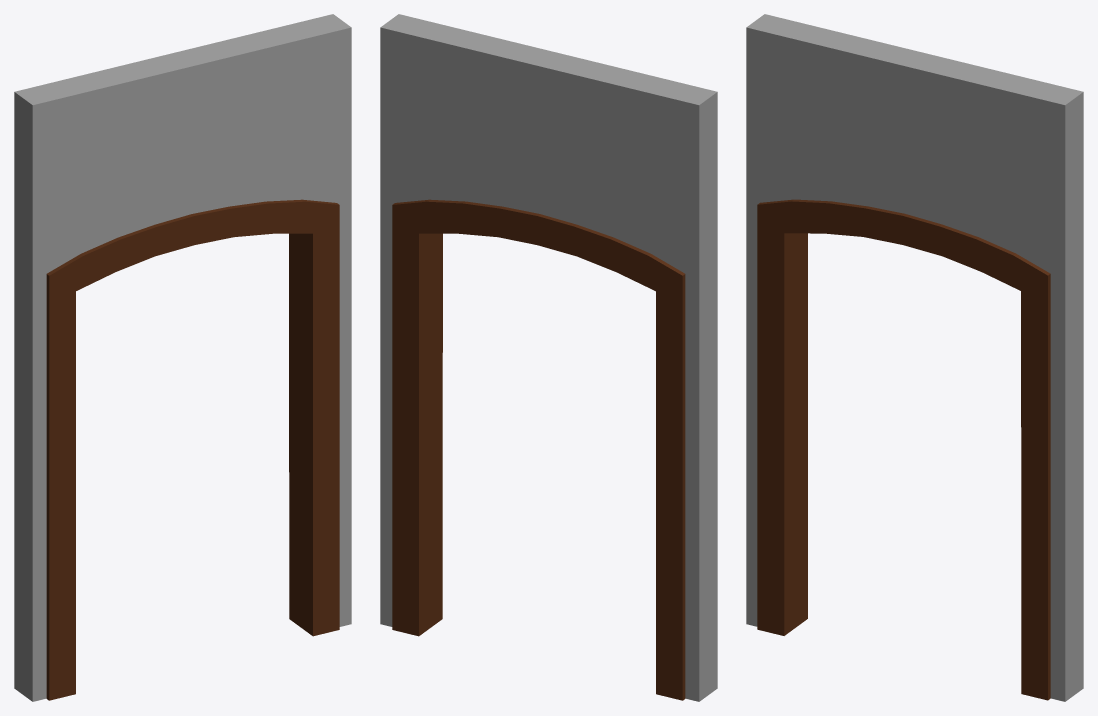
The model's file is wallDoorFrame.fbx.
The picture shows the model from 3 angles, left to right: view 1: azimuth 30°, elevation 25°; view 2: azimuth 150°, elevation 25°; view 3: azimuth 330°, elevation 25°; orthographic projection.
Parts seen in each view (by area): view 1: WallwithDoorFrame; view 2: WallwithDoorFrame; view 3: WallwithDoorFrame.
Boxes of the visible parts, x1,y1,x2,y2 form: WallwithDoorFrame: (14,14,351,701); WallwithDoorFrame: (380,14,717,701); WallwithDoorFrame: (746,14,1083,701).
Bounding box in the file's own units: 200 × 25.83 × 358.
